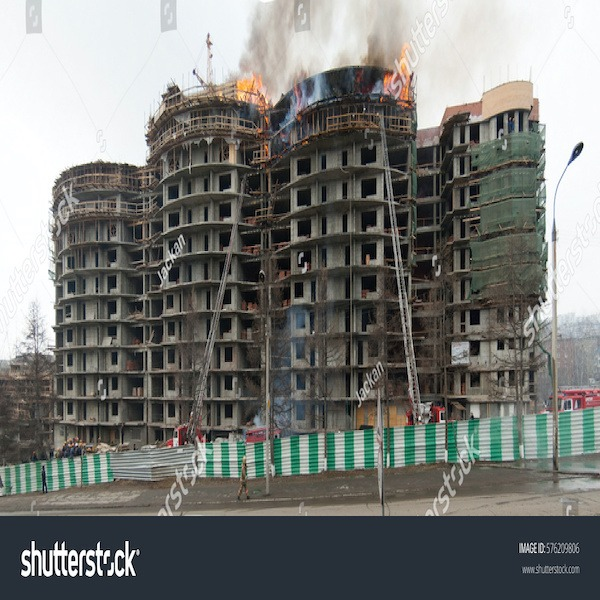fire: (233, 64, 274, 103)
